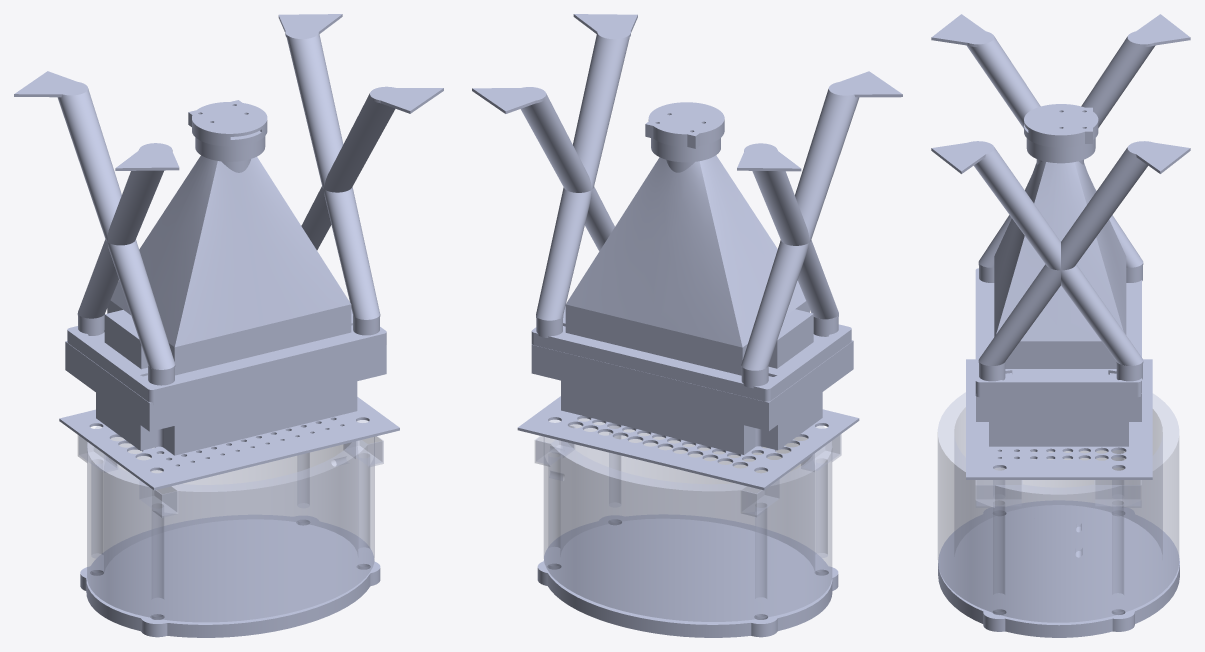
File: Assem2.gltf
3 renders of one model, left to right at view 1: azimuth 30°, elevation 25°; view 2: azimuth 150°, elevation 25°; view 3: azimuth 270°, elevation 25°, orthographic.
Parts seen in each view (by area): view 1: LightCap-1, LightFilter & Funnel-1, ReactorLid-2, v1-96wellplate-1, Legs-1, Legs-4, v2-96wellLightGradient-6, CameraMountBottom-1, CameraMountTop-1; view 2: LightCap-1, LightFilter & Funnel-1, ReactorLid-2, v1-96wellplate-1, Legs-1, Legs-4, v2-96wellLightGradient-6, CameraMountBottom-1, CameraMountTop-1; view 3: LightCap-1, ReactorLid-2, LightFilter & Funnel-1, Legs-4, Legs-1, v2-96wellLightGradient-6, v1-96wellplate-1, CameraMountBottom-1, CameraMountTop-1.
Boxes of the visible parts, x1,y1,x2,y2 form: LightCap-1: [78, 420, 383, 621]; LightFilter & Funnel-1: [67, 155, 386, 404]; ReactorLid-2: [80, 515, 380, 637]; v1-96wellplate-1: [65, 341, 386, 455]; Legs-1: [14, 71, 179, 385]; Legs-4: [278, 14, 443, 335]; v2-96wellLightGradient-6: [59, 397, 399, 490]; CameraMountBottom-1: [188, 100, 267, 146]; CameraMountTop-1: [195, 130, 265, 161]; LightCap-1: [535, 418, 841, 621]; LightFilter & Funnel-1: [531, 155, 851, 401]; ReactorLid-2: [537, 514, 838, 637]; v1-96wellplate-1: [531, 340, 853, 454]; Legs-1: [737, 71, 902, 388]; Legs-4: [472, 14, 637, 337]; v2-96wellLightGradient-6: [517, 396, 859, 490]; CameraMountBottom-1: [645, 102, 724, 148]; CameraMountTop-1: [651, 138, 720, 162]; LightCap-1: [938, 392, 1178, 622]; ReactorLid-2: [938, 500, 1179, 637]; LightFilter & Funnel-1: [975, 159, 1141, 397]; Legs-4: [931, 141, 1190, 381]; Legs-1: [931, 14, 1190, 282]; v2-96wellLightGradient-6: [966, 359, 1152, 479]; v1-96wellplate-1: [976, 393, 1141, 446]; CameraMountBottom-1: [1024, 104, 1098, 147]; CameraMountTop-1: [1026, 138, 1095, 163].
Bounding box in the file's own units: 0.2009 × 0.287 × 0.1396.
